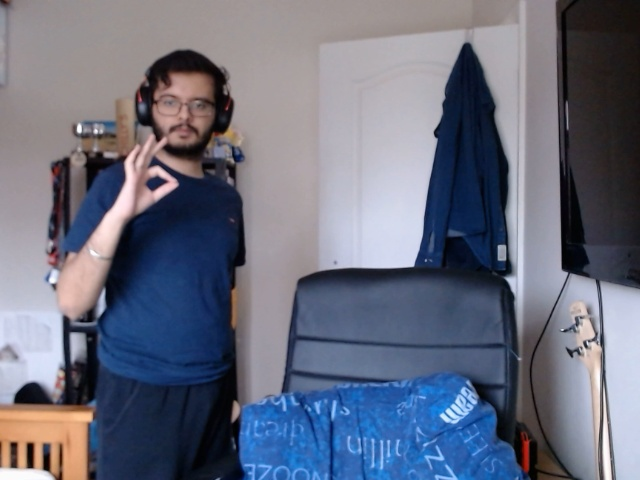Okay: (100, 133, 189, 227)
